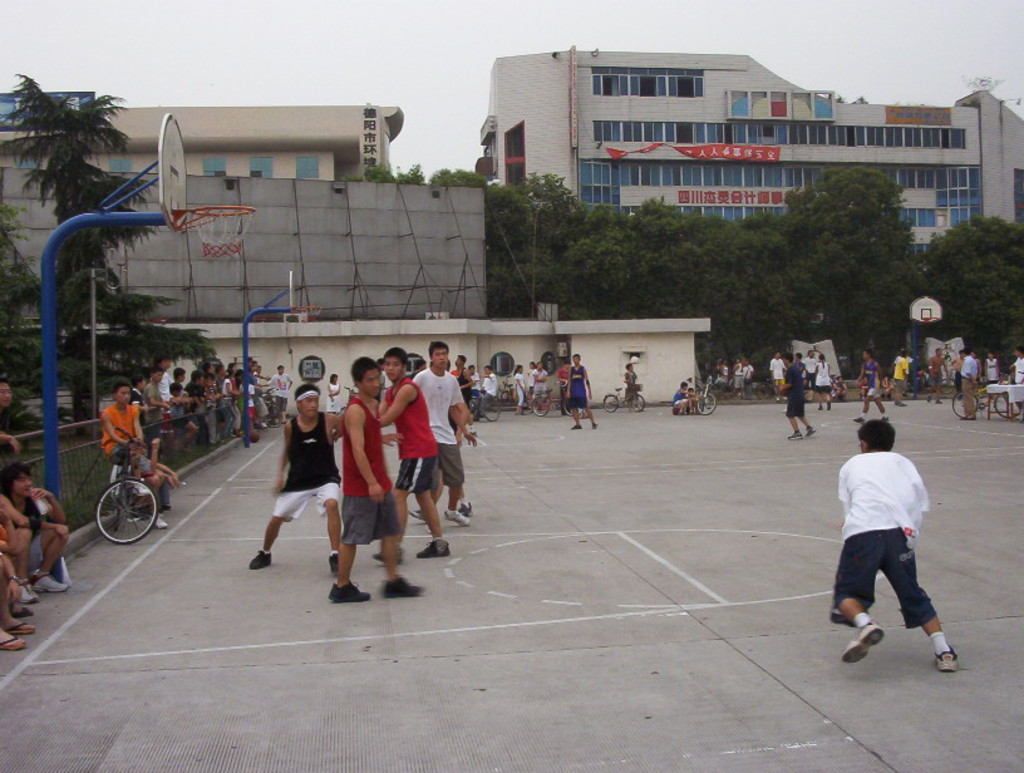Person: (830, 418, 960, 672), (325, 360, 416, 598), (248, 384, 345, 576), (373, 347, 451, 557), (133, 355, 294, 442), (410, 342, 475, 526), (100, 376, 167, 529), (0, 463, 71, 602), (0, 490, 34, 618), (0, 539, 35, 652), (106, 443, 157, 520), (775, 352, 816, 439), (562, 350, 598, 433), (853, 350, 891, 421), (140, 450, 179, 513), (711, 355, 759, 399), (266, 363, 295, 419), (475, 362, 499, 421), (928, 346, 954, 400), (959, 349, 977, 422), (0, 378, 16, 456), (453, 355, 473, 414), (1009, 345, 1024, 421), (890, 349, 910, 404), (763, 355, 787, 400), (816, 353, 834, 411), (622, 363, 641, 408), (324, 373, 343, 415), (530, 365, 551, 403), (672, 382, 700, 410), (982, 351, 1004, 386), (514, 363, 529, 414), (469, 364, 482, 408), (797, 351, 816, 381), (833, 374, 851, 401), (524, 360, 534, 399), (687, 387, 697, 415)
